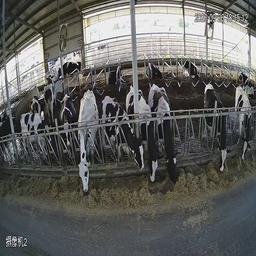cow: (148, 79, 187, 200), (125, 81, 161, 207), (96, 92, 140, 186), (201, 76, 232, 191), (12, 99, 55, 176), (73, 82, 99, 209), (53, 89, 77, 172), (233, 80, 254, 172), (31, 75, 57, 101), (59, 56, 82, 80), (145, 58, 164, 80), (107, 60, 124, 84), (185, 57, 200, 80)
